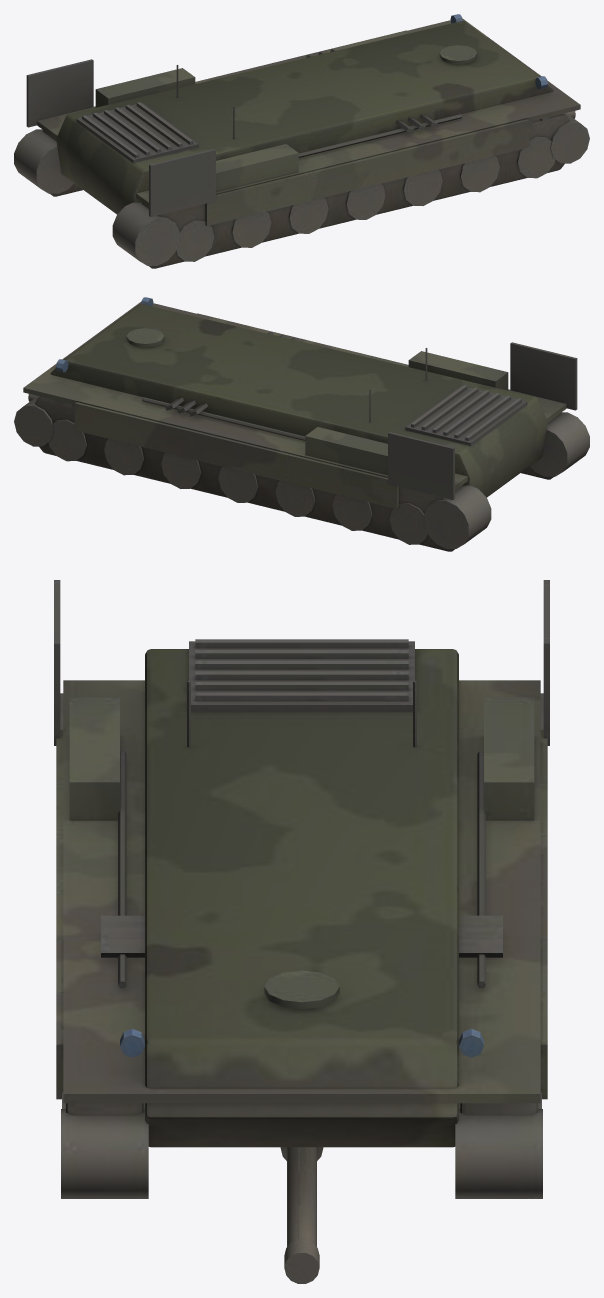
Rendered from abrams.glb.
3 views of the same model, one above another, from view 1: azimuth 30°, elevation 25°; view 2: azimuth 150°, elevation 25°; view 3: azimuth 270°, elevation 25° (orthographic). The views are drawn at different scales.
Visible parts, largest first — view 1: g_abrams_hull; view 2: g_abrams_hull; view 3: g_abrams_hull, g_abrams_gun.
Part boxes in pixels (<box>): g_abrams_hull: <box>14,14,589,268</box>; g_abrams_hull: <box>14,297,589,551</box>; g_abrams_hull: <box>54,580,549,1198</box>; g_abrams_gun: <box>280,1147,323,1283</box>.
Size of the model in its own units: 9.13 by 2.19 by 3.95.
Materials: 4 (3 with a texture image).
